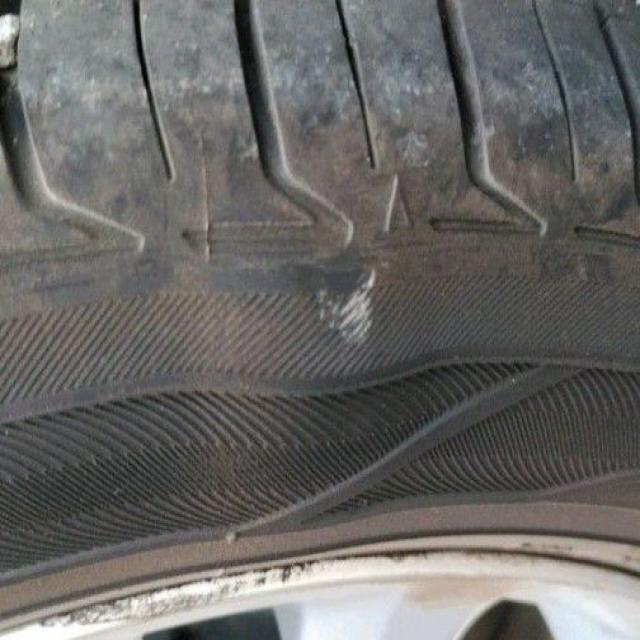Bulge: (193, 217, 430, 518)
